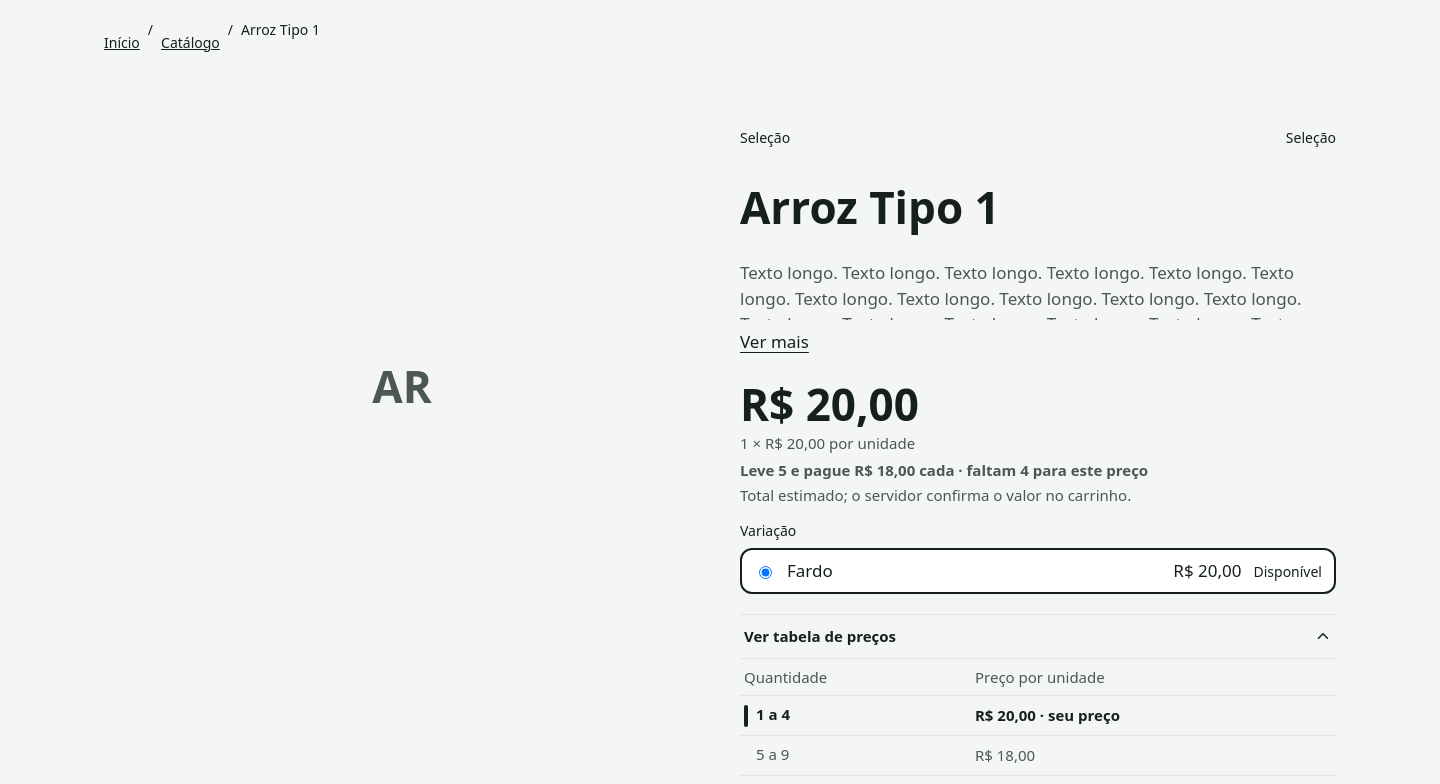
Test case: preço na página do produto › descrição longa começa recolhida e Ver mais expande
Click the button "Ver mais". click: x=774, y=342
box: 740,320 -> 809,364
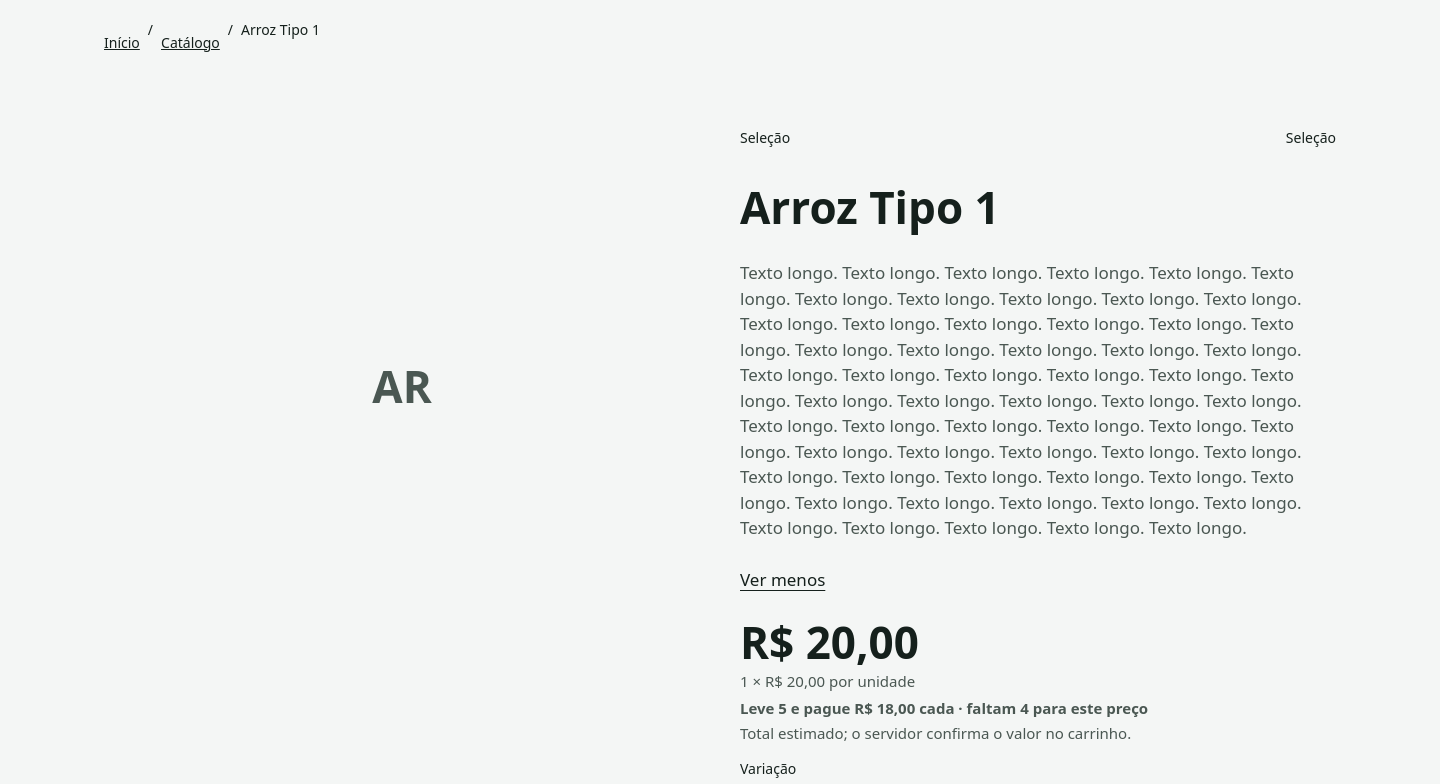
Now the button "Ver menos" is expanded, box 740,558 -> 825,602
